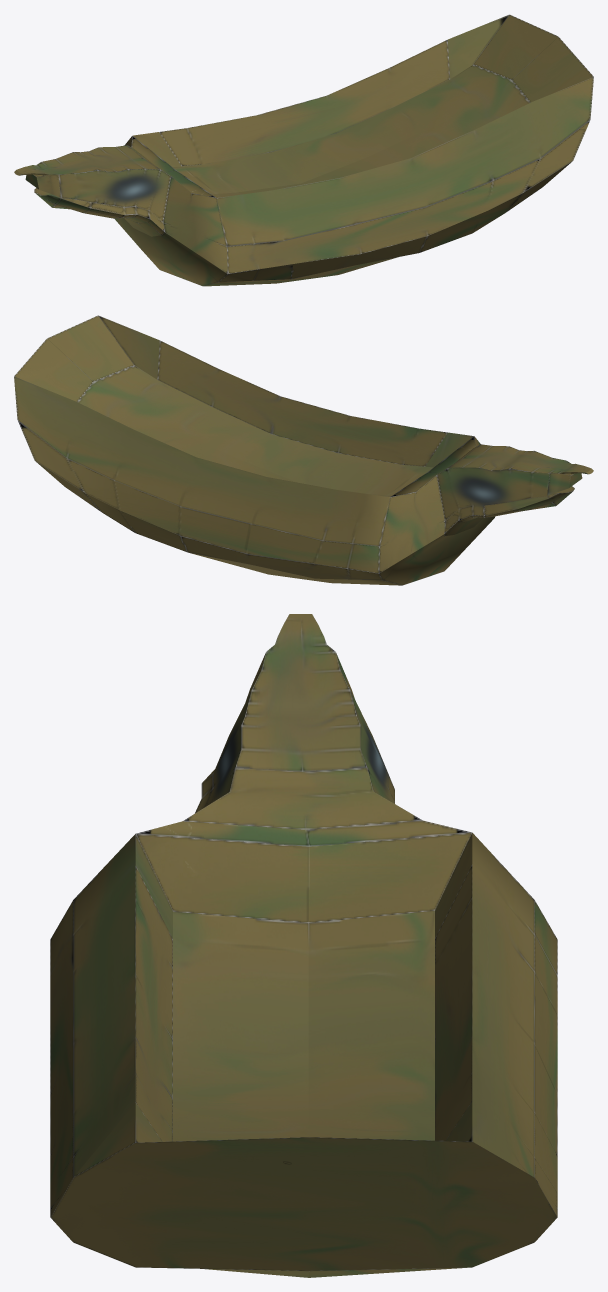
The model's file is barco.obj.
3 renders of one model, top to bottom at view 1: azimuth 30°, elevation 25°; view 2: azimuth 150°, elevation 25°; view 3: azimuth 270°, elevation 25°, orthographic. The views are drawn at different scales.
Parts seen in each view (by area): view 1: pCylinder1; view 2: pCylinder1; view 3: pCylinder1.
Part boxes in pixels (x1=…): pCylinder1: x1=14, y1=14, x2=593, y2=286; pCylinder1: x1=14, y1=315, x2=593, y2=585; pCylinder1: x1=50, y1=614, x2=557, y2=1277.
Bounding box in the file's own units: 7.37 × 2.05 × 2.98.
1 material, 1 textured.
